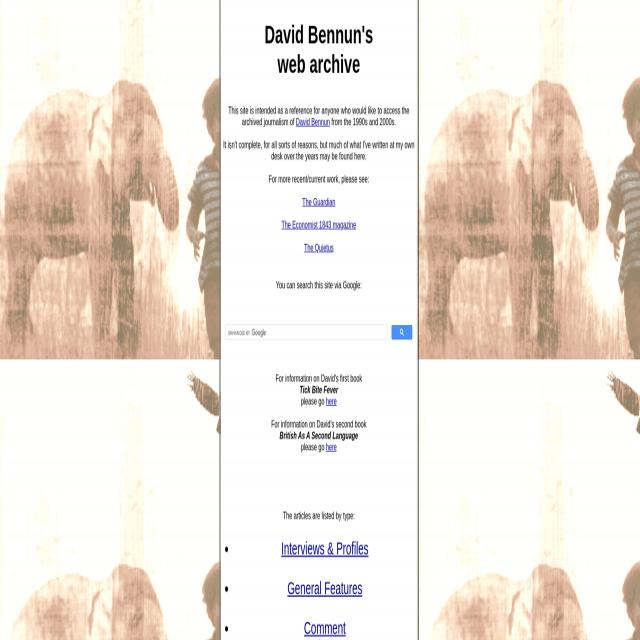button: (391, 324, 413, 340)
field: (226, 325, 387, 339)
